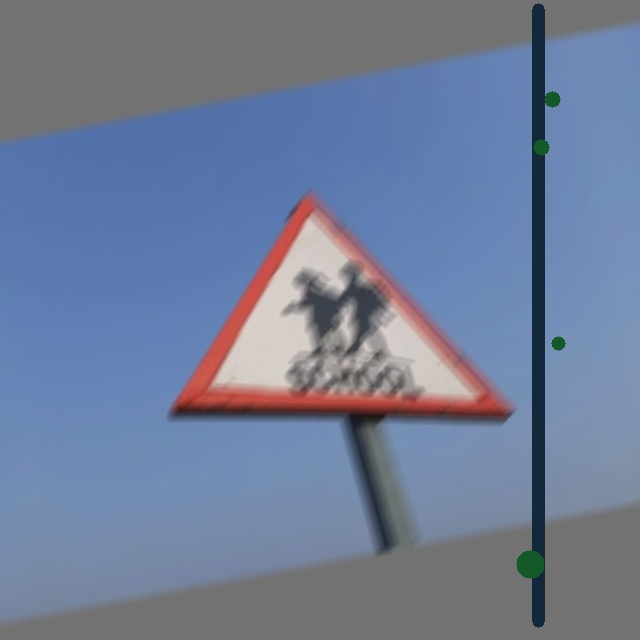School_Ahead: (171, 165, 495, 469)
